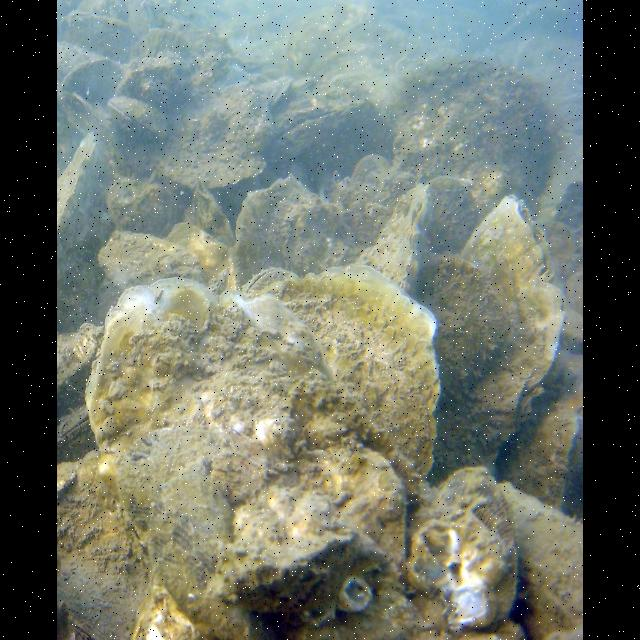Oyster-Closed: (85, 277, 525, 639), (124, 446, 419, 639), (425, 194, 564, 488), (254, 267, 443, 477), (384, 59, 562, 226), (144, 465, 279, 639), (117, 429, 300, 540), (221, 491, 376, 614), (57, 449, 153, 639), (407, 467, 518, 630), (354, 178, 480, 297), (230, 173, 353, 290), (421, 256, 507, 408), (500, 482, 583, 639), (153, 80, 270, 189), (500, 393, 583, 519), (57, 134, 114, 257), (98, 229, 206, 287), (106, 177, 186, 238), (118, 62, 196, 124), (62, 12, 139, 61), (167, 224, 229, 280), (57, 326, 105, 390), (107, 97, 172, 144), (493, 10, 576, 41), (192, 190, 233, 248), (65, 60, 121, 102), (542, 220, 575, 280), (133, 32, 192, 59), (554, 182, 583, 231), (352, 154, 392, 181), (258, 76, 292, 106), (296, 77, 315, 92)
Oyster-Open: (263, 101, 365, 164), (242, 267, 299, 293), (57, 406, 91, 445)
